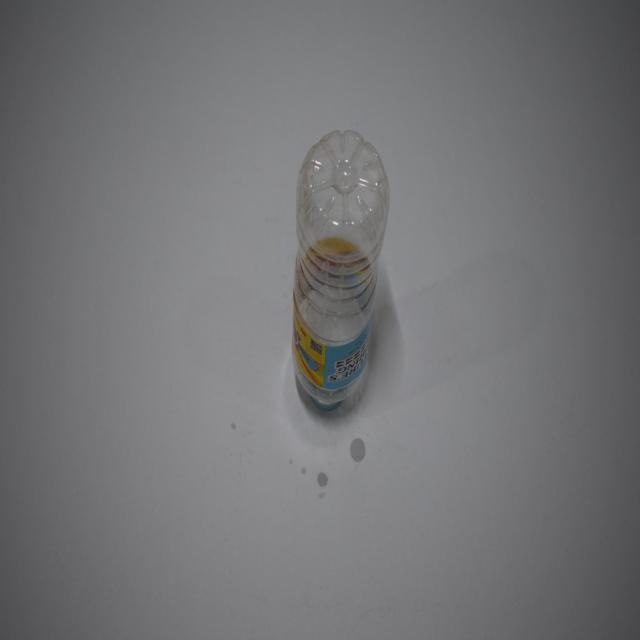bottle: (288, 129, 395, 416)
